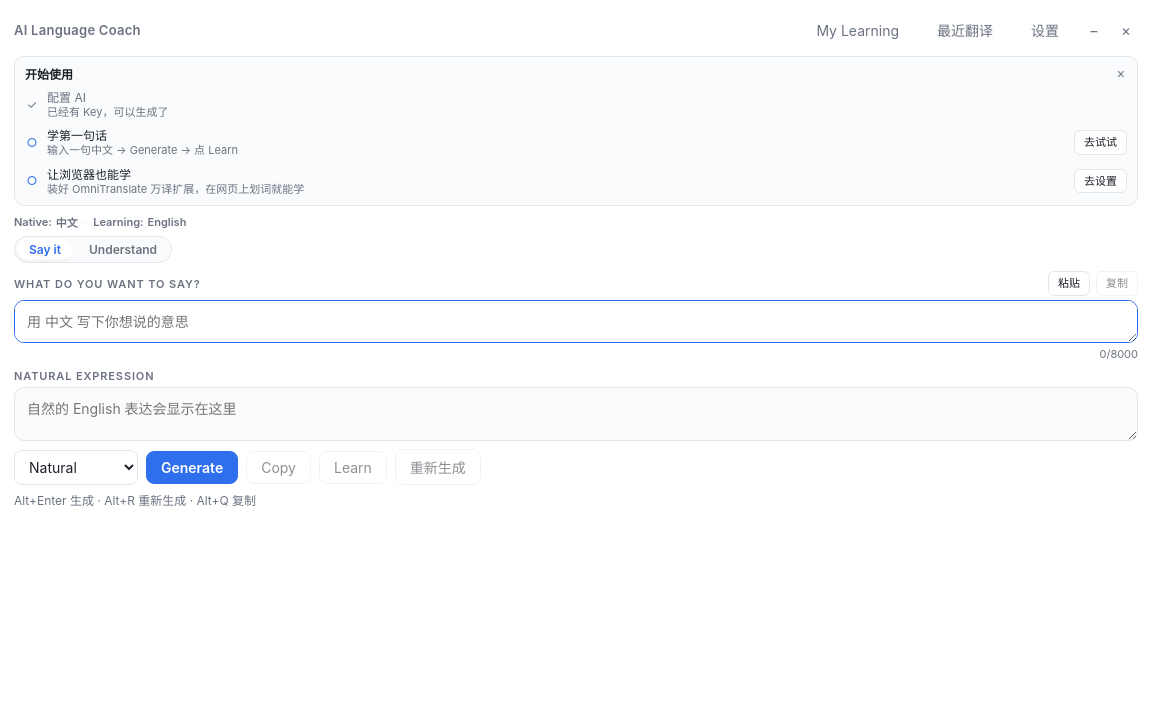
AssistantPage › keeps the typed text and explains itself when the clipboard is empty
The width and height of the screenshot is (1152, 720).
In the text box with placeholder "用 中文 写下你想说的意思": (576, 322) [14, 300, 1138, 343], type "你好"
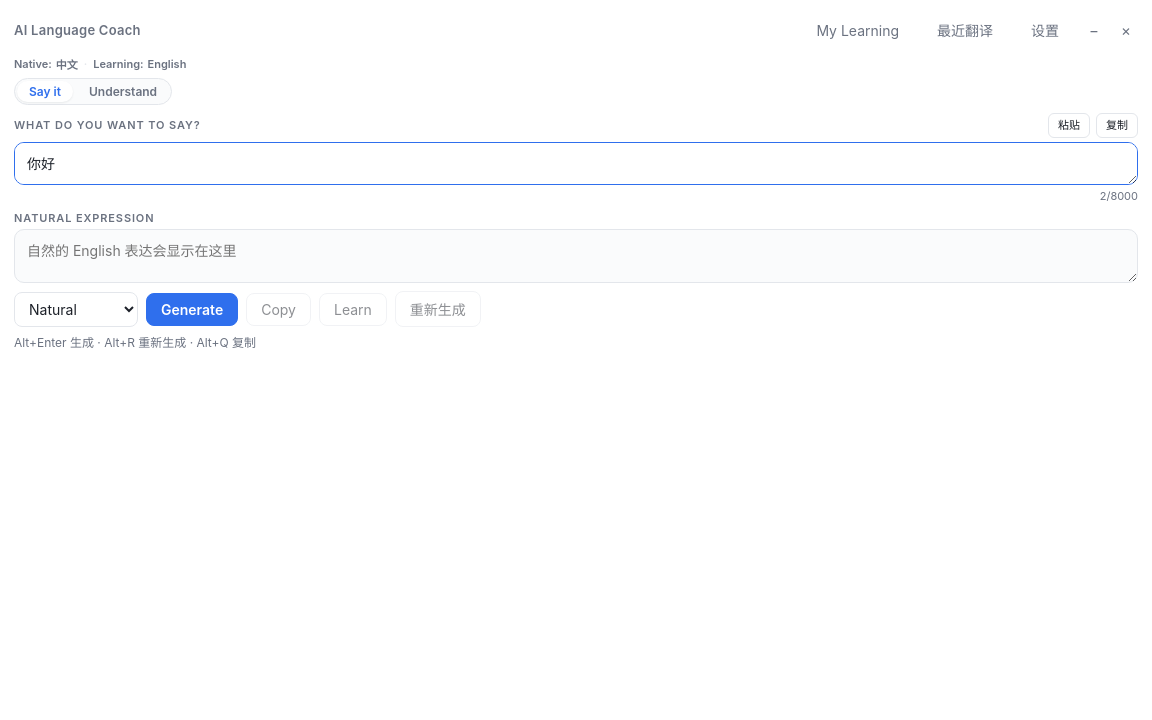
Click the button with aria-label "从剪贴板粘贴": (1069, 125) [1048, 113, 1090, 138]
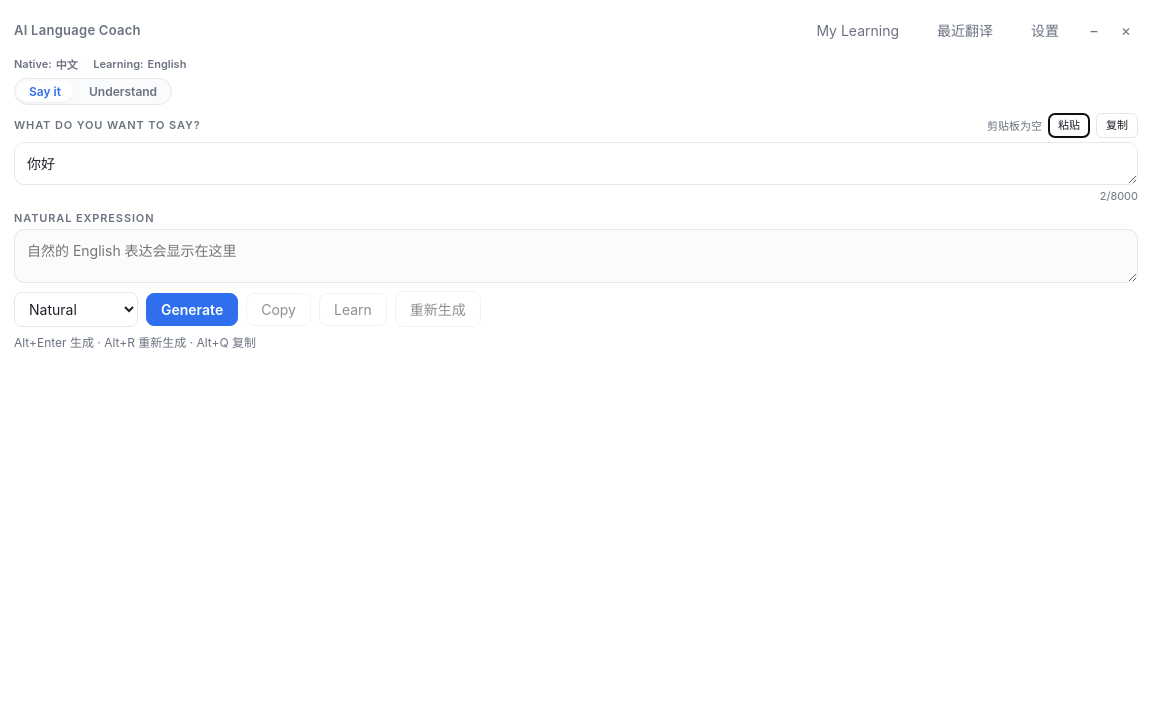
Now the text "剪贴板为空" is shown, box [987, 117, 1042, 133]
